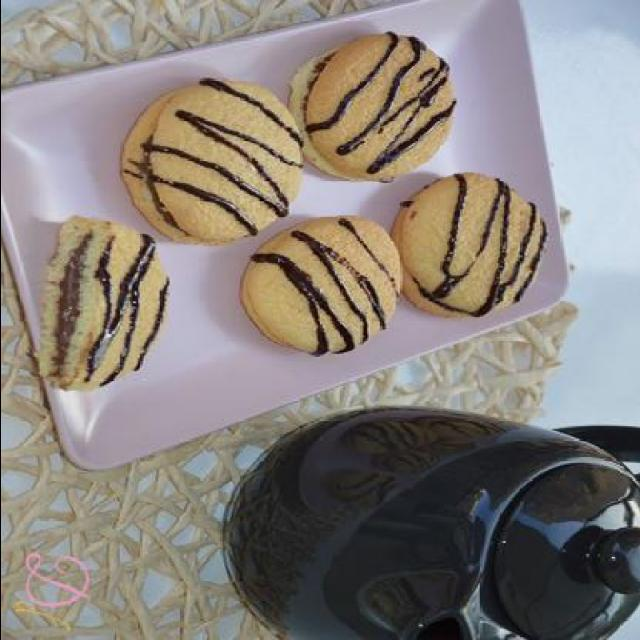Merendine packaged: (128, 78, 304, 247), (284, 29, 458, 186), (384, 170, 546, 328), (38, 214, 174, 394), (240, 218, 403, 362)
